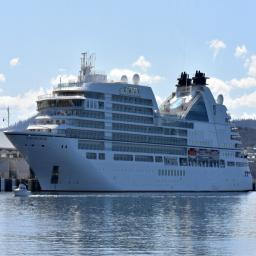cruises: (6, 54, 256, 195)
